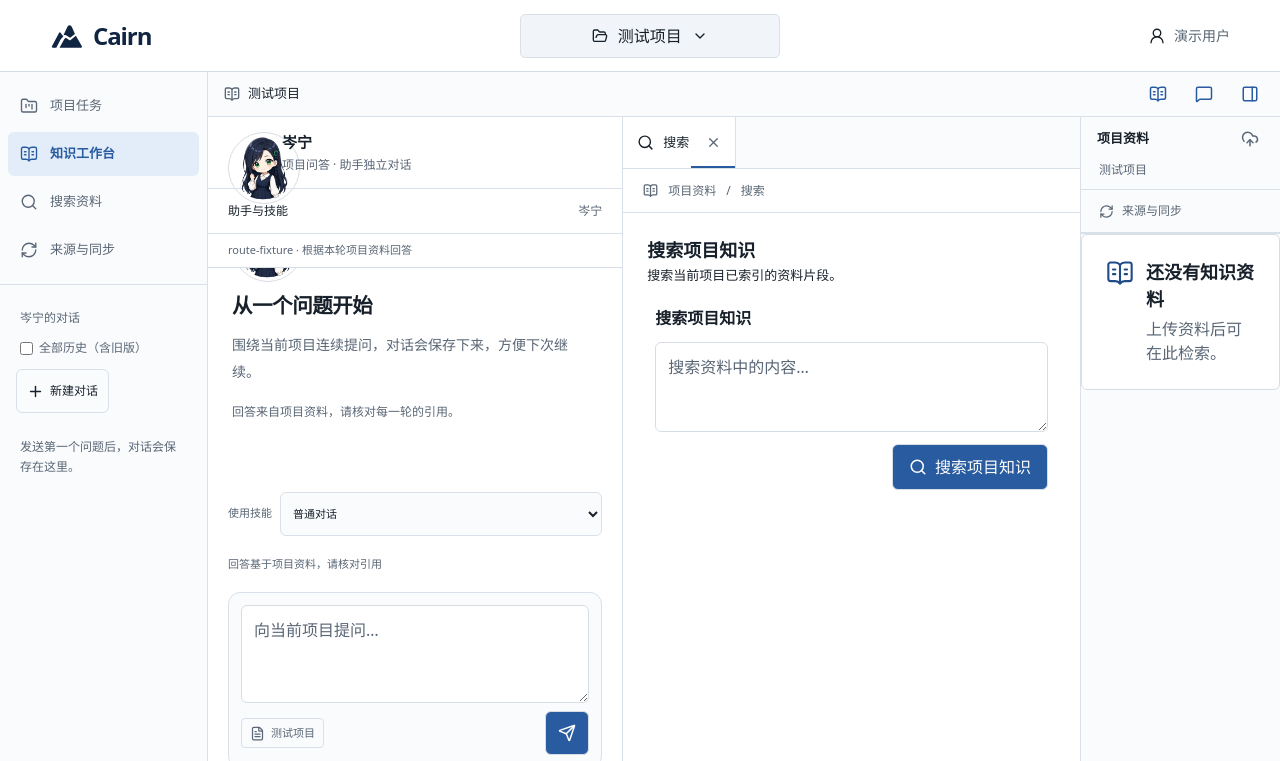
Test: the project knowledge route loads the selected project inside the shared knowledge shell
(page scrolled)
Expected: the heading "还没有知识资料" is shown, x1=1146 y1=259 x2=1255 y2=313
Click the button named "上传资料": (1250, 139) x1=1228 y1=117 x2=1272 y2=161
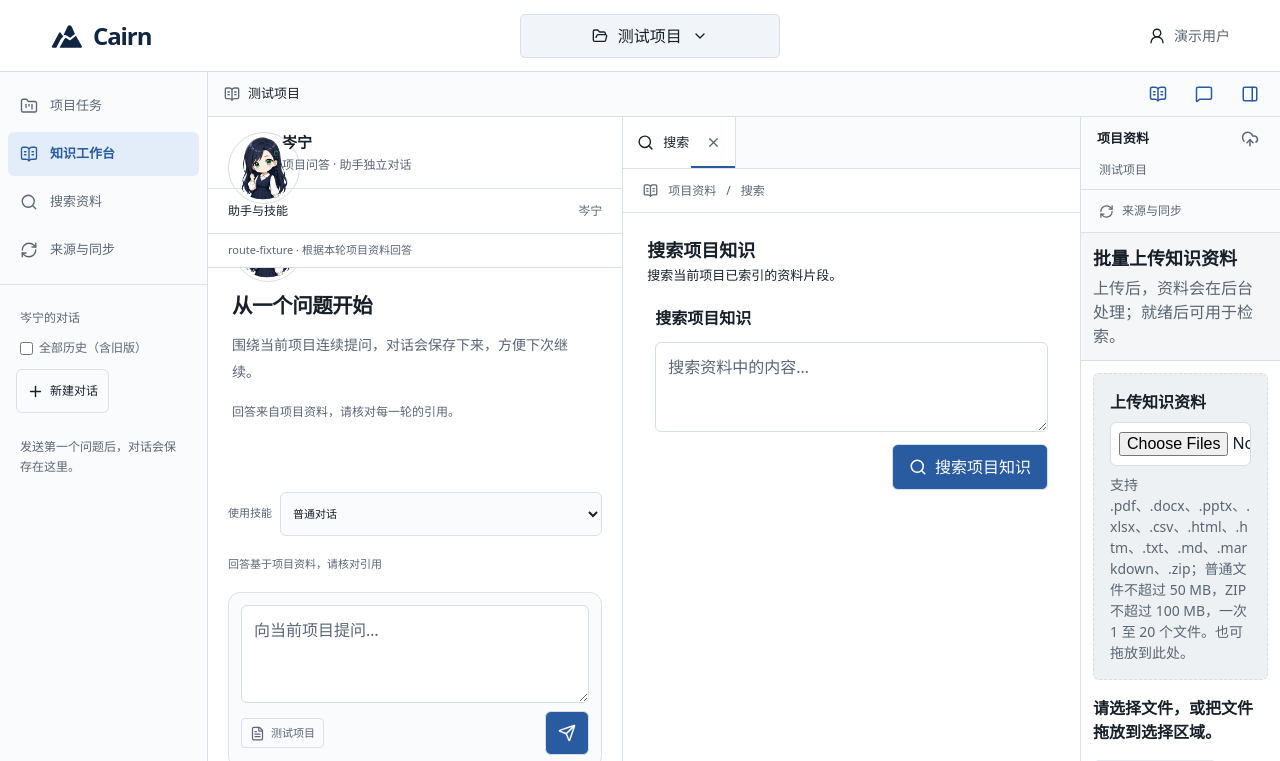
Now the file field labelled "上传知识资料" is shown, box x1=1110 y1=422 x2=1251 y2=466
